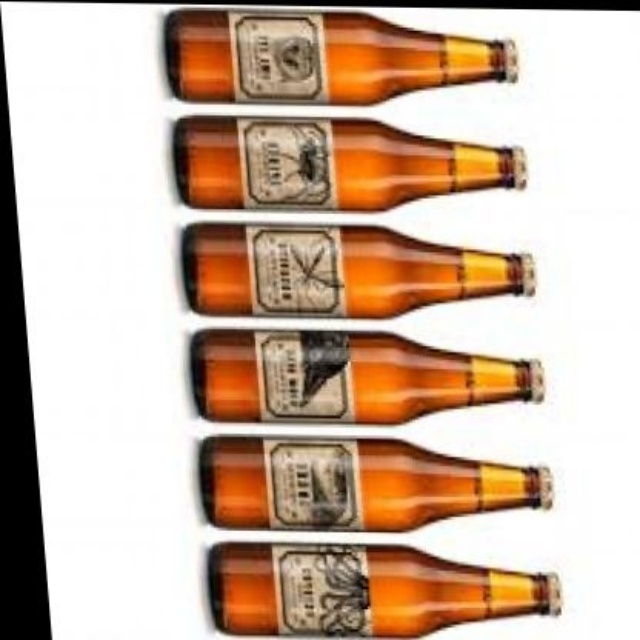trash: (200, 437, 551, 531), (183, 223, 534, 317), (192, 329, 542, 423), (209, 543, 560, 635), (174, 117, 525, 209), (165, 11, 515, 103)
